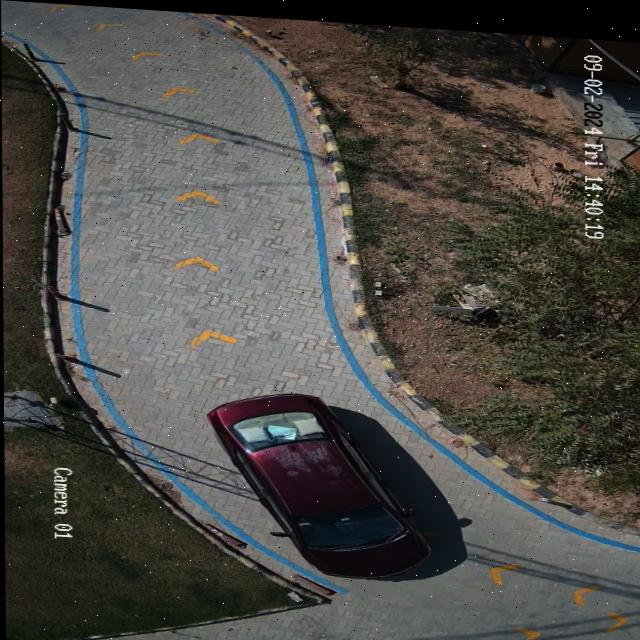car: (207, 390, 425, 573)
